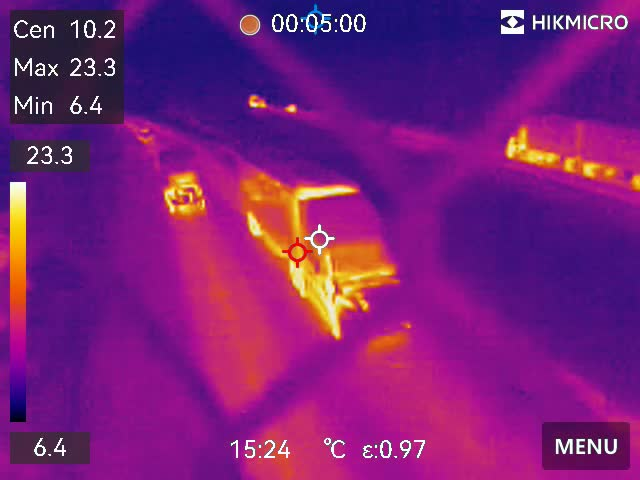heavyTruck: (238, 145, 409, 346), (504, 109, 640, 188)
